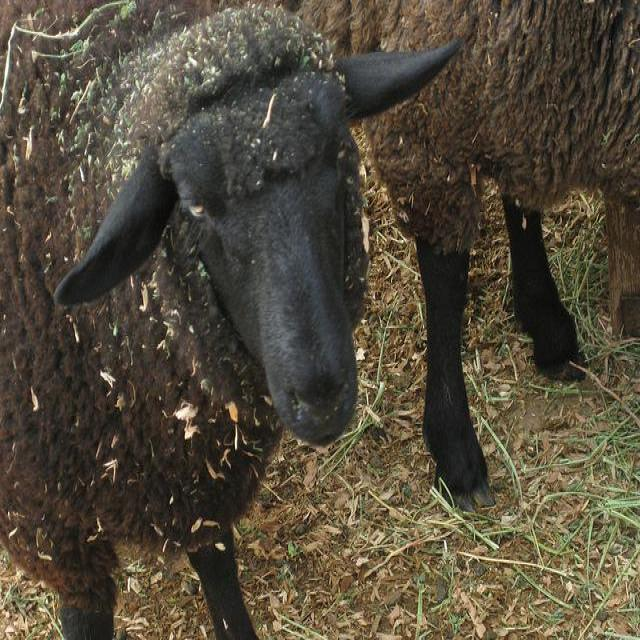Sheep: (0, 1, 461, 632), (284, 1, 639, 516)
